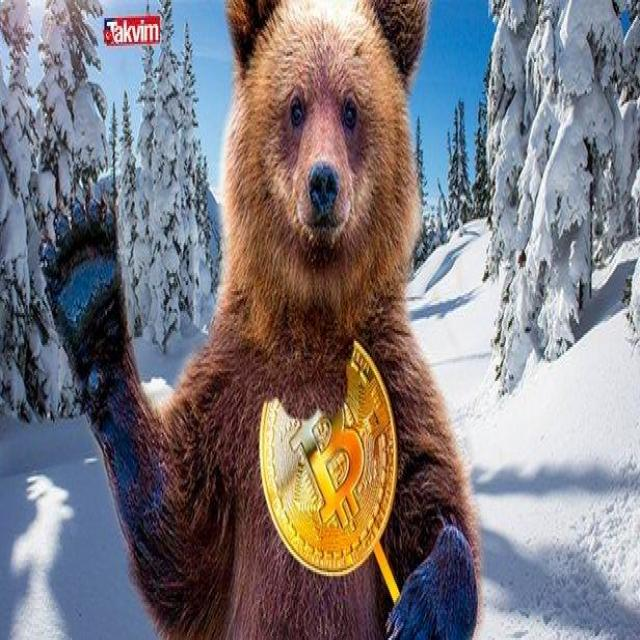Bear: (51, 0, 481, 640)
